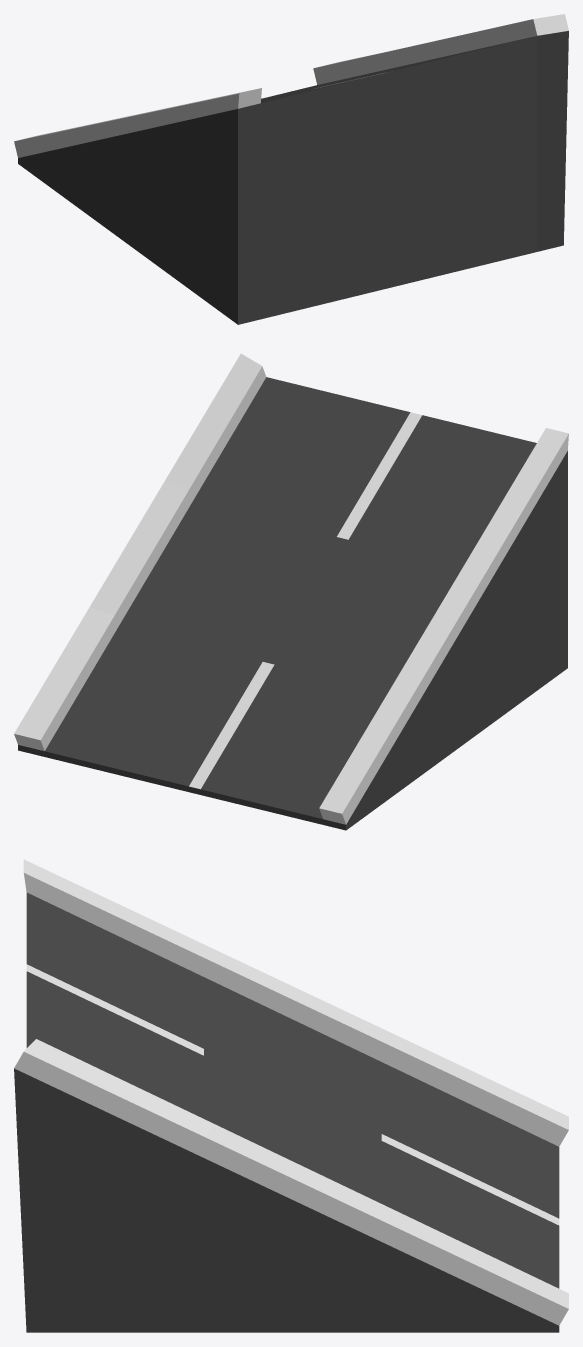
Rendered from highway-ramp.fbx.
3 views of the same model, one above another, from view 1: azimuth 30°, elevation 25°; view 2: azimuth 150°, elevation 25°; view 3: azimuth 270°, elevation 25° (orthographic). The views are drawn at different scales.
Visible parts, largest first — view 1: highway-ramp; view 2: highway-ramp; view 3: highway-ramp.
Boxes of the visible parts, box(x1,y1,x2,y2) form: highway-ramp: box(14, 14, 568, 324); highway-ramp: box(14, 353, 568, 830); highway-ramp: box(14, 859, 568, 1332).
Size of the model in its own units: 8.92 by 6.08 by 10.88.
